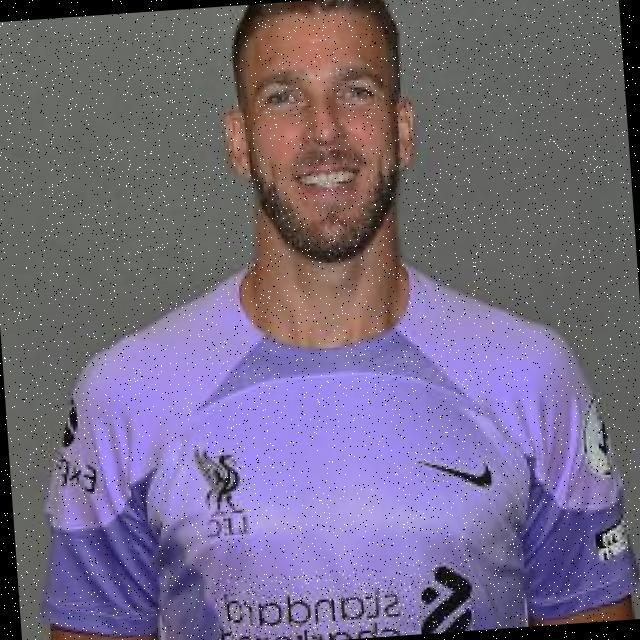Nike: (419, 451, 492, 492)
Standard Chartered: (212, 560, 476, 640)
